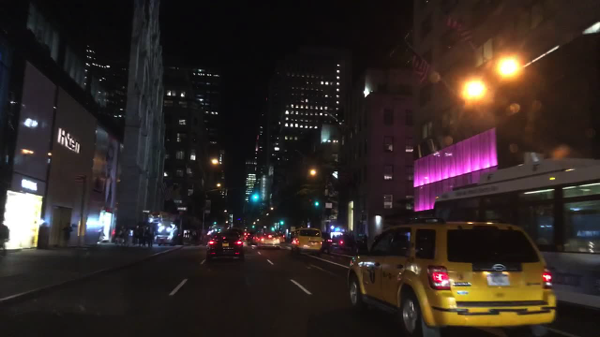bus: (432, 158, 597, 312)
car: (345, 216, 556, 336), (205, 231, 243, 264), (291, 228, 322, 253), (258, 233, 281, 250), (156, 228, 176, 247), (321, 232, 334, 253), (250, 235, 260, 245), (276, 233, 286, 243), (241, 233, 247, 241), (247, 233, 251, 241)
person: (0, 215, 10, 257), (63, 221, 73, 247), (145, 224, 152, 248), (134, 224, 140, 247), (139, 224, 145, 247), (117, 228, 123, 246), (123, 228, 128, 246), (174, 226, 179, 243), (112, 229, 117, 242), (186, 231, 191, 239), (360, 237, 365, 244), (184, 232, 187, 239)
traffic light: (253, 193, 258, 202), (315, 201, 320, 209), (279, 220, 284, 225), (251, 225, 255, 229), (271, 226, 274, 231), (214, 221, 217, 225)
traffic sign: (176, 206, 188, 212), (325, 203, 332, 210), (143, 210, 151, 213), (290, 227, 296, 231), (358, 234, 364, 237), (206, 210, 210, 214)
